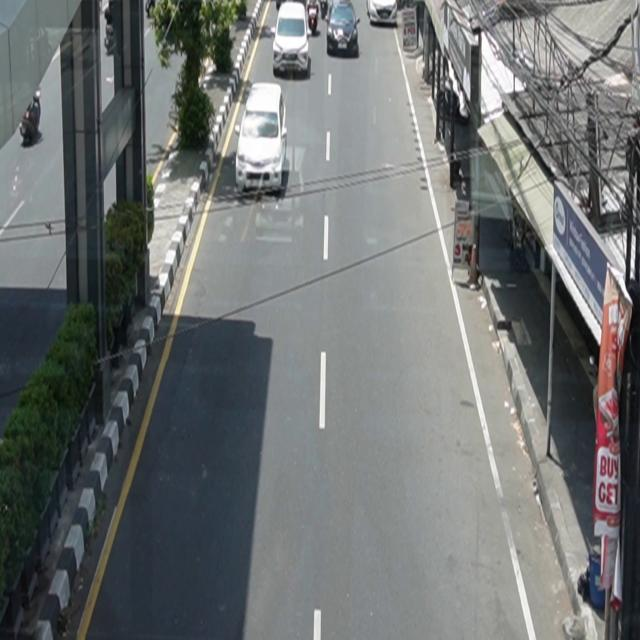car: (236, 83, 288, 196), (273, 2, 311, 79), (327, 1, 361, 57), (367, 1, 398, 26)
